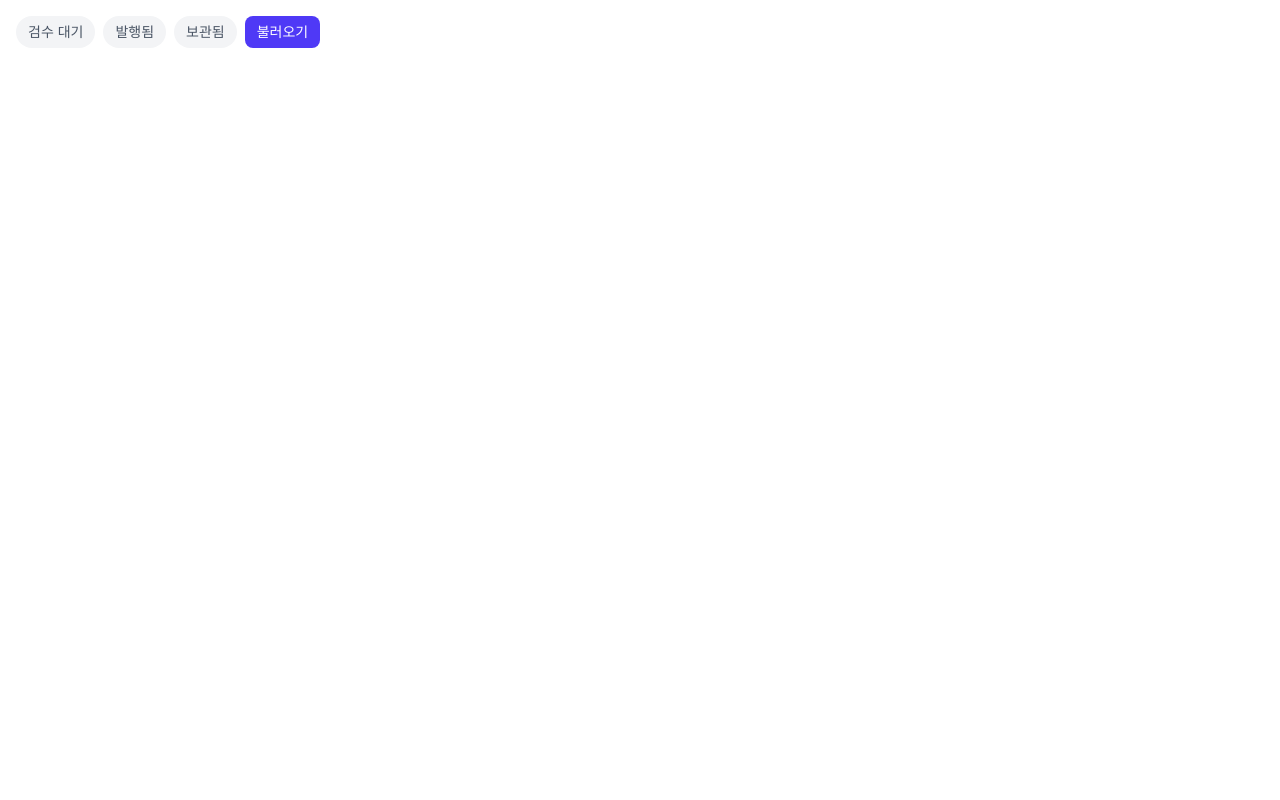
Test case: SpotNoticesPanel › 행을 펼치면 원본 미리보기와 편집 폼이 보인다
Step 1. Click the button "불러오기" → (282, 32), box 245,16 -> 320,48
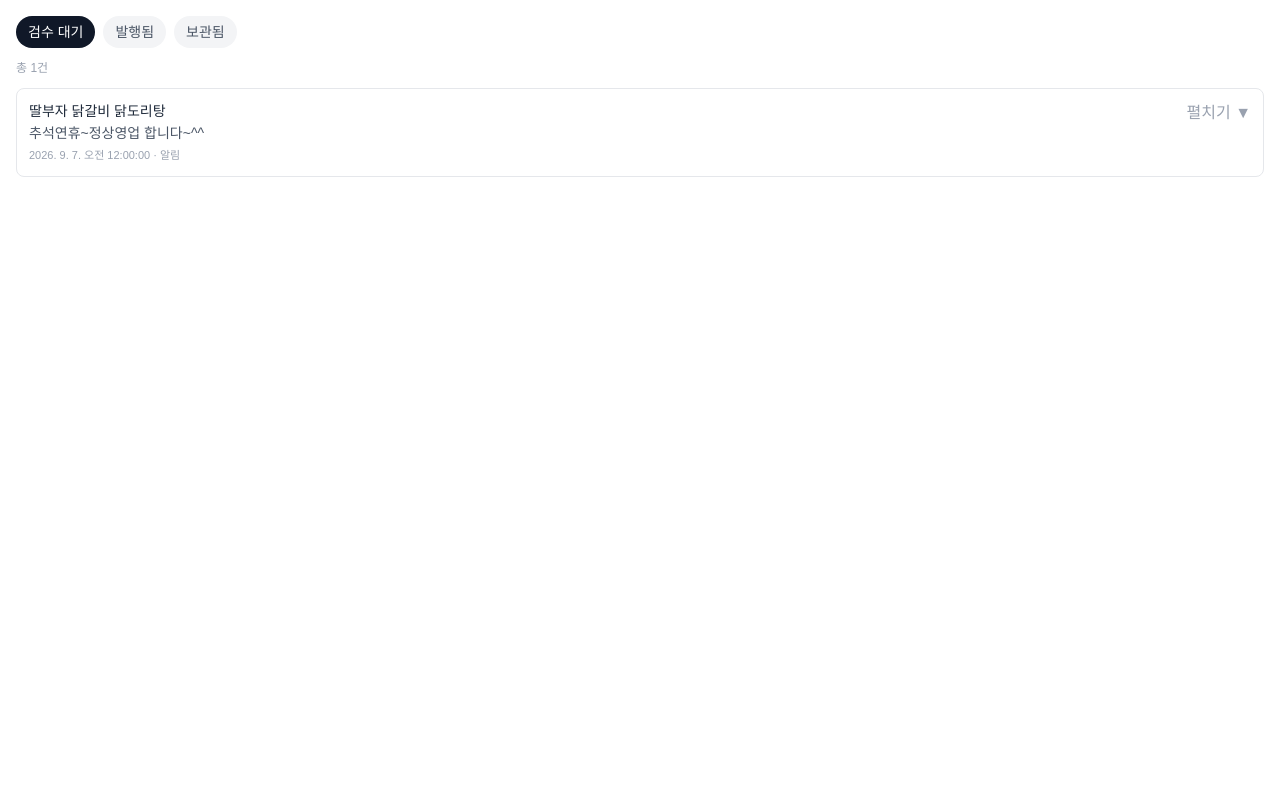
Now the text "딸부자 닭갈비 닭도리탕" is shown, box 29,103 -> 166,119
Step 2. Click the text "펼치기 ▼" → (1219, 113), box 1186,101 -> 1251,125
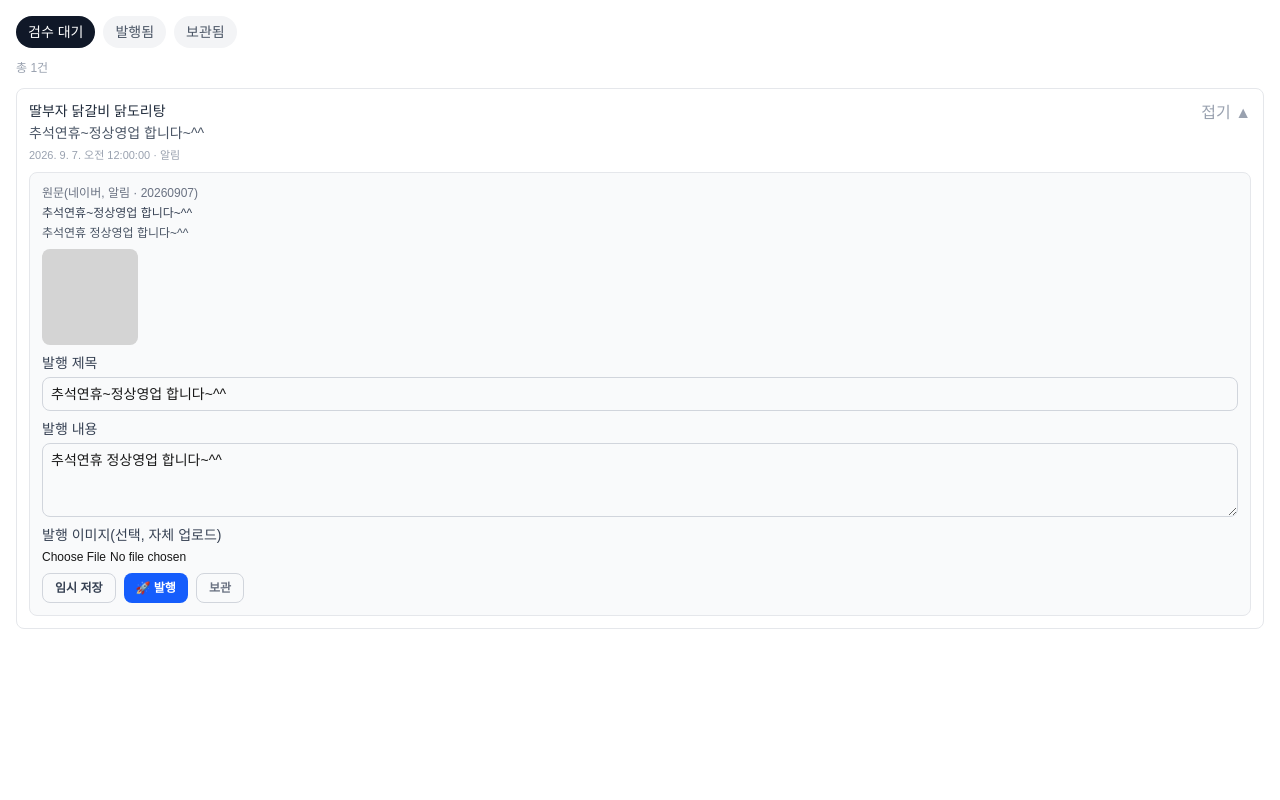
Now the text "원문(네이버, 알림 · 20260907)" is shown, box 42,186 -> 198,200
Now the button "🚀 발행" is shown, box 124,572 -> 188,602
Now the button "보관" is shown, box 196,572 -> 244,602
